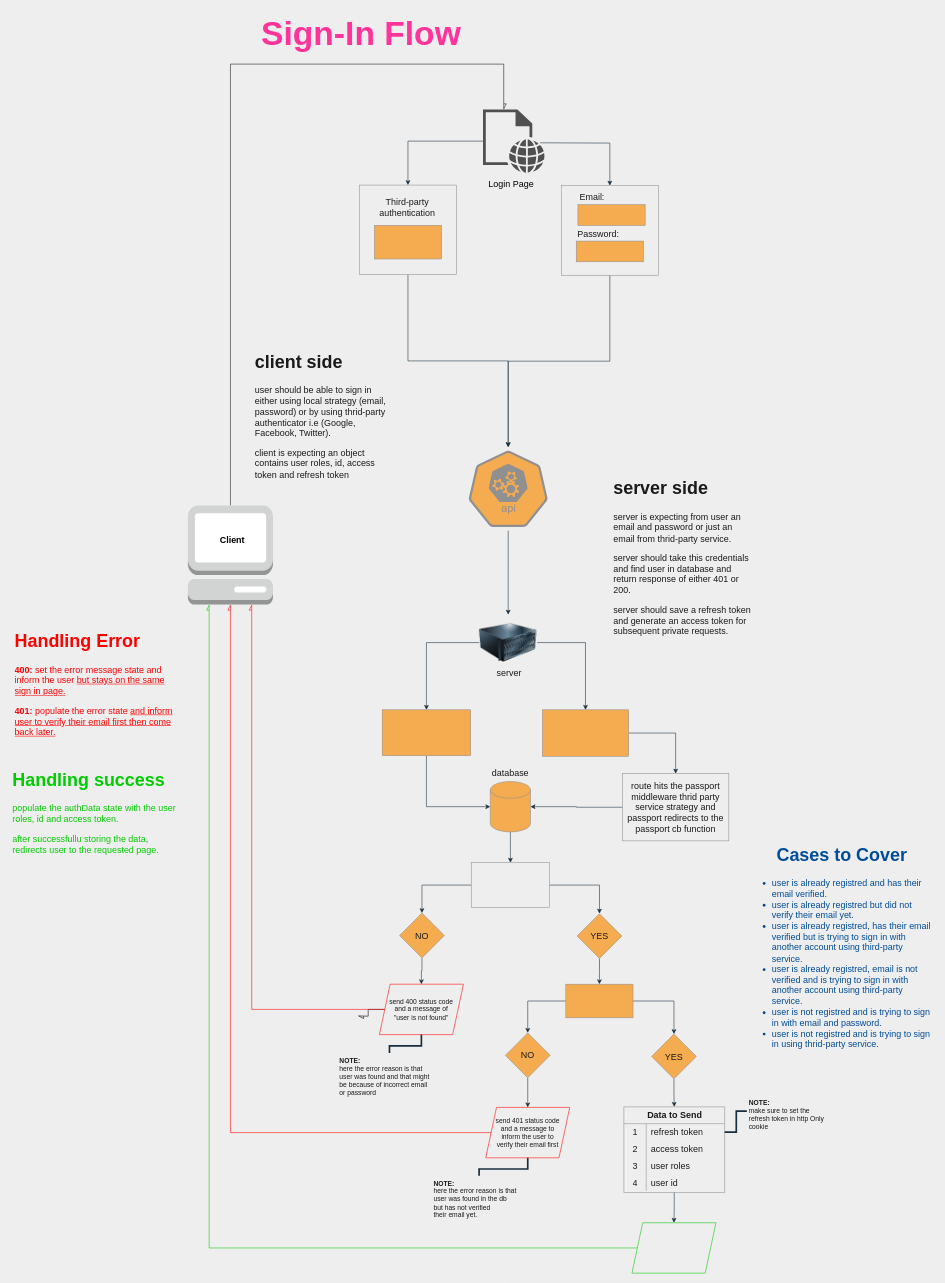
This 945x1283 diagram has some shape labels left out. The centre of each missing label's shape, as x and y in pixels:
"client hits the /login" belongs at (426,732).
"client hits the /login using third party service" belongs at (585,732).
"fetch user data using email to verify user" belongs at (510,884).
"is user email verified" belongs at (599,1001).
"send 200 status code and success message to the client" belongs at (673,1247).
